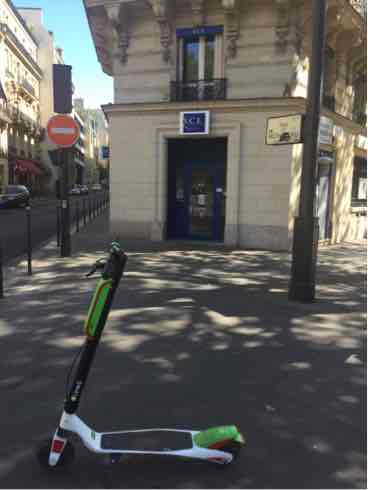scooter: (36, 223, 245, 476)
